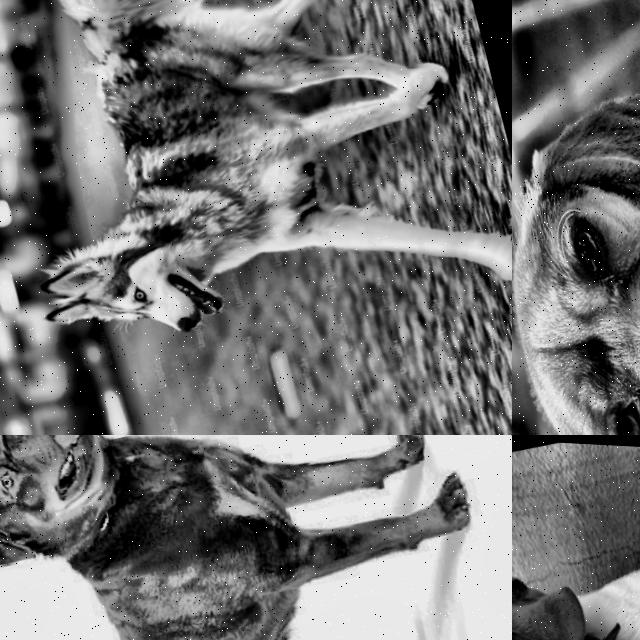beagle: (512, 29, 640, 435), (512, 530, 640, 640)
husky: (0, 180, 270, 386)
rottweiler: (0, 435, 167, 621)
